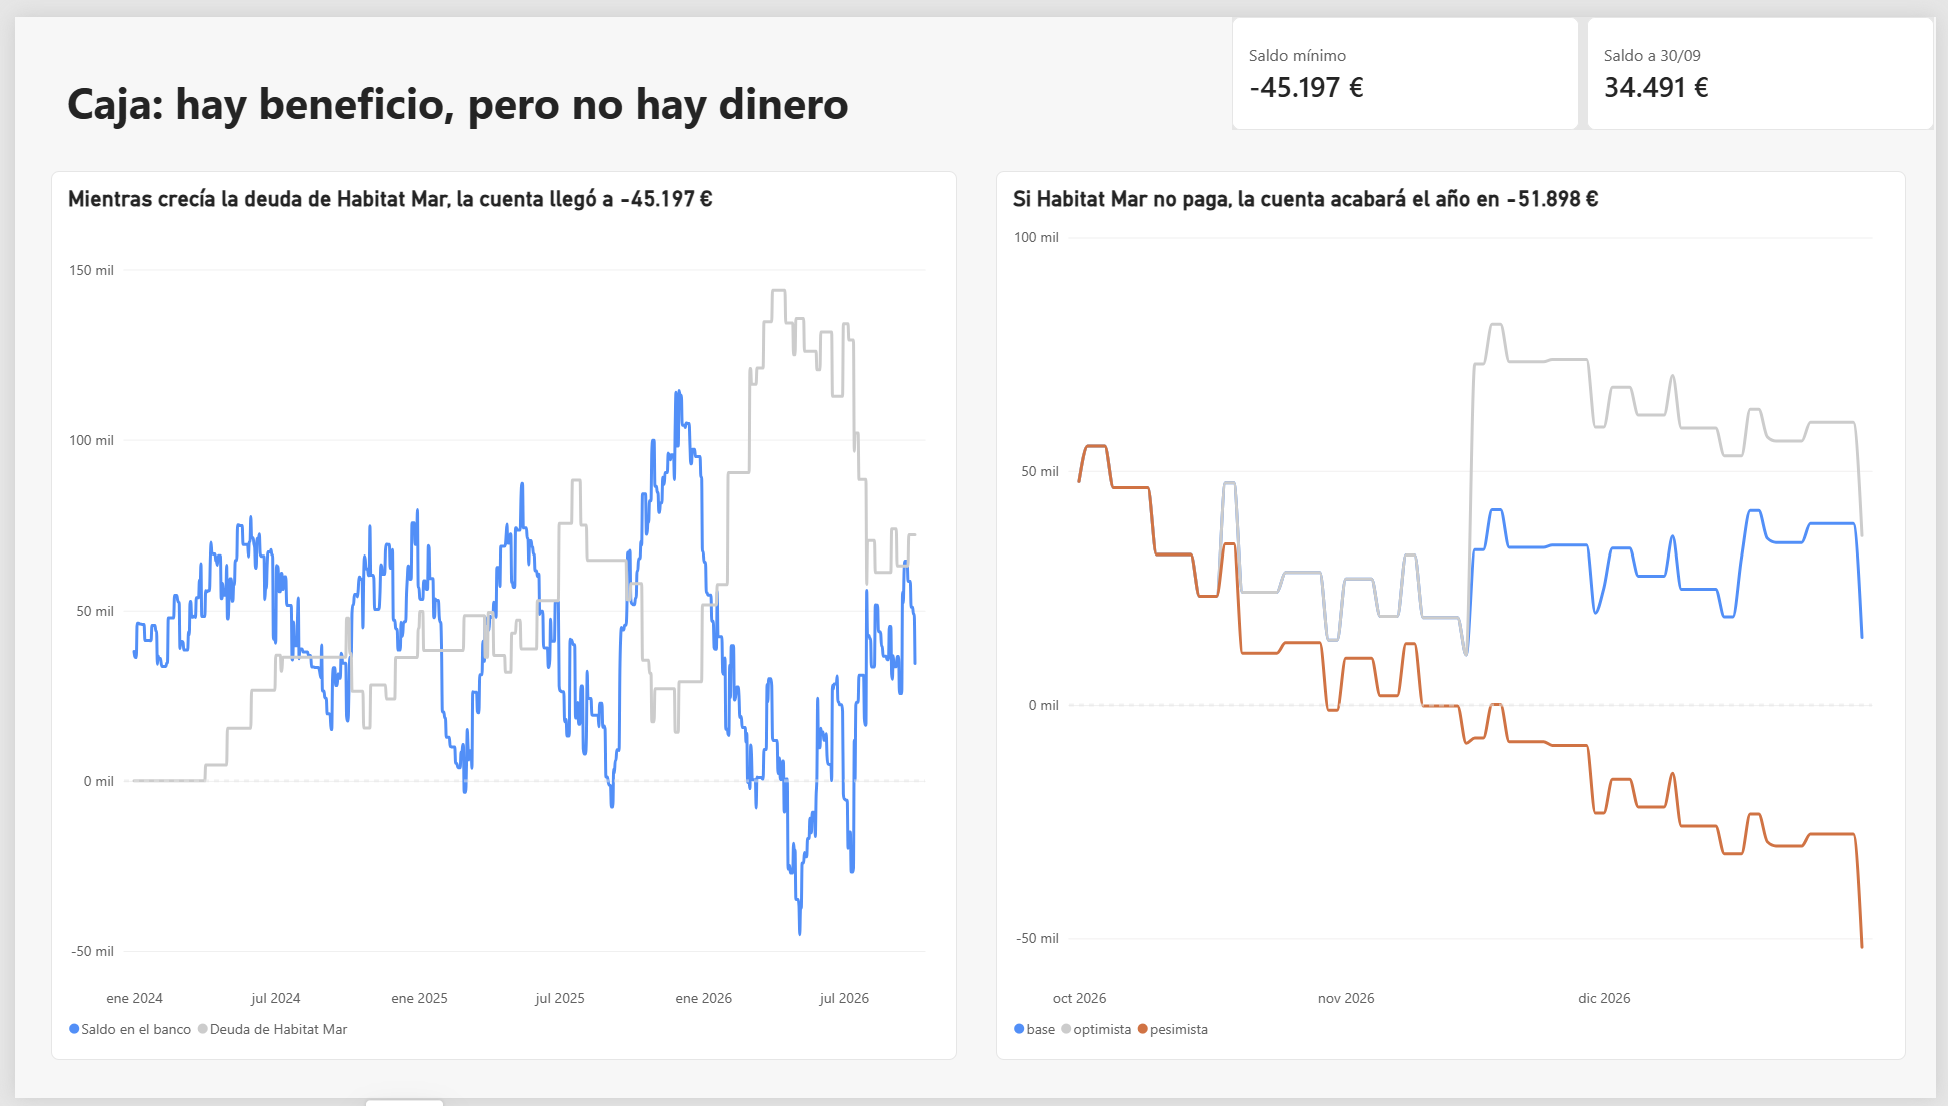

What the dashboard file says about the page in this screenshot:
{"tool":"powerbi","page":{"name":"Caja","canvas":[1920,1080],"ordinal":2},"visuals":[{"type":"textbox","box":[52,56,862,226],"z":0},{"type":"cardVisual","fields":{"Data":["_Medidas.Saldo mínimo","_Medidas.Saldo a 30/09"]},"box":[1216,0,703.3,113.3],"z":1},{"type":"lineChart","title":"Mientras crecía la deuda de Habitat Mar, la cuenta llegó a −45.197 €","fields":{"Category":["analisis_saldo_diario.fecha"],"Y":["Sum(analisis_saldo_diario.saldo)","Sum(analisis_saldo_diario.deuda_habitat)"]},"box":[36,154,906,888],"z":2},{"type":"lineChart","title":"Si Habitat Mar no paga, la cuenta acabará el año en −51.898 €","fields":{"Category":["analisis_prevision_caja.fecha"],"Series":["analisis_prevision_caja.escenario"],"Y":["Sum(analisis_prevision_caja.saldo_previsto)"]},"box":[980,154,910,888],"z":3}]}

Visuals, with their boxes in screenshot pixels (x1, y1, x2, y2), scaled from the page's 1920x1080 canvas onto the 1948x1106 screenshot:
textbox: bbox(53, 57, 927, 289)
cardVisual - _Medidas.Saldo mínimo x _Medidas.Saldo a 30/09: bbox(1234, 0, 1947, 116)
"Mientras crecía la deuda de Habitat Mar, la cuenta llegó a −45.197 €" lineChart: bbox(37, 158, 956, 1067)
"Si Habitat Mar no paga, la cuenta acabará el año en −51.898 €" lineChart: bbox(994, 158, 1918, 1067)
